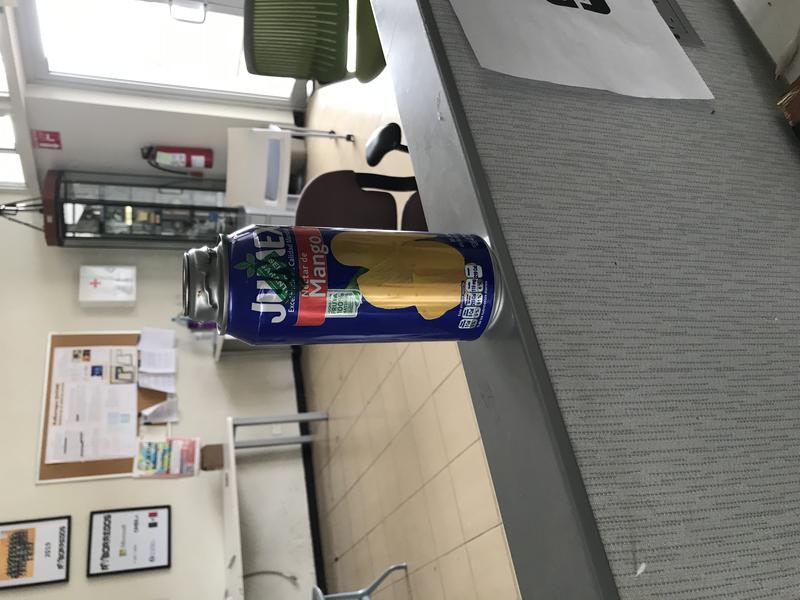jumex_botella: (182, 224, 512, 345)
